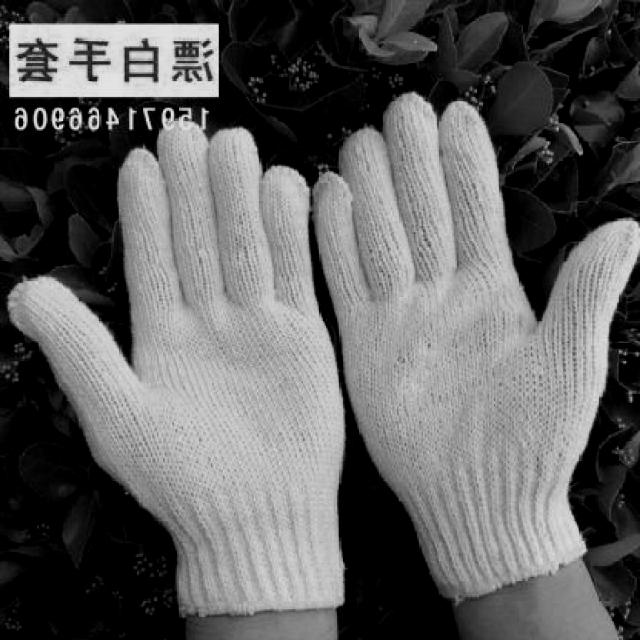hand_glove: (8, 123, 354, 560), (313, 93, 636, 545)
